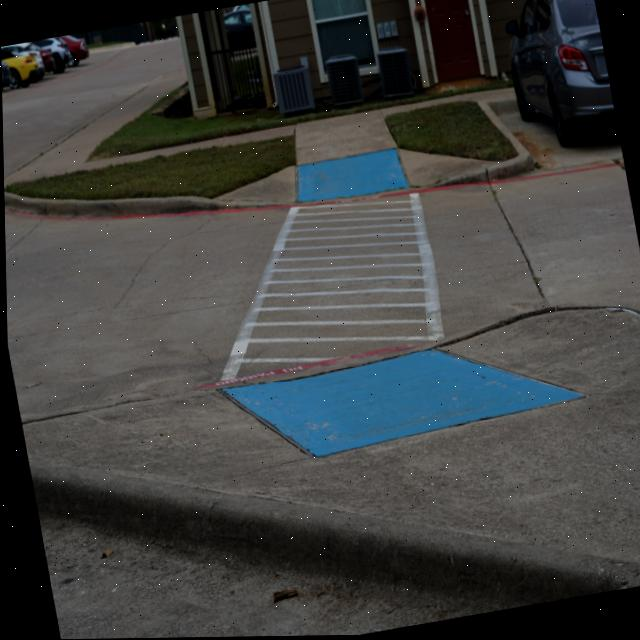Automobile: (505, 0, 615, 148), (1, 35, 89, 91), (223, 4, 256, 49)
Road: (4, 115, 640, 422), (35, 510, 570, 639)
Sidewalk: (20, 310, 640, 571), (3, 77, 533, 207), (377, 89, 514, 119)
